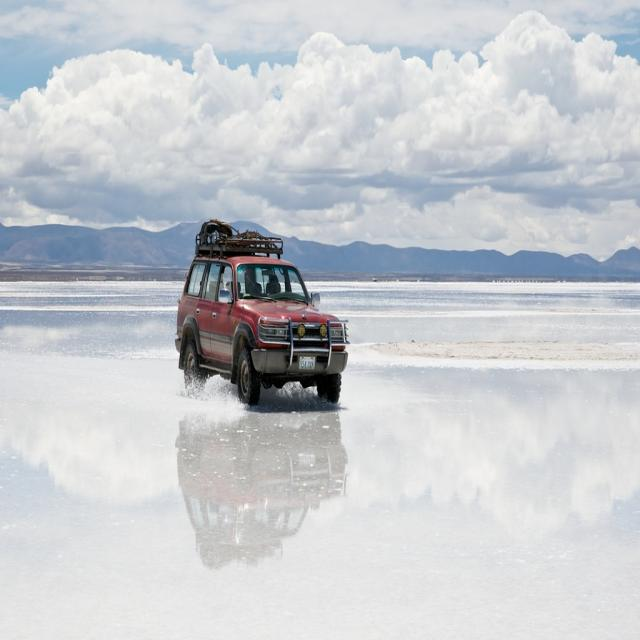car: (172, 229, 346, 406)
